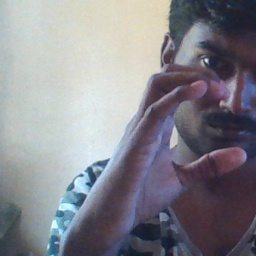C: (132, 60, 252, 187)
